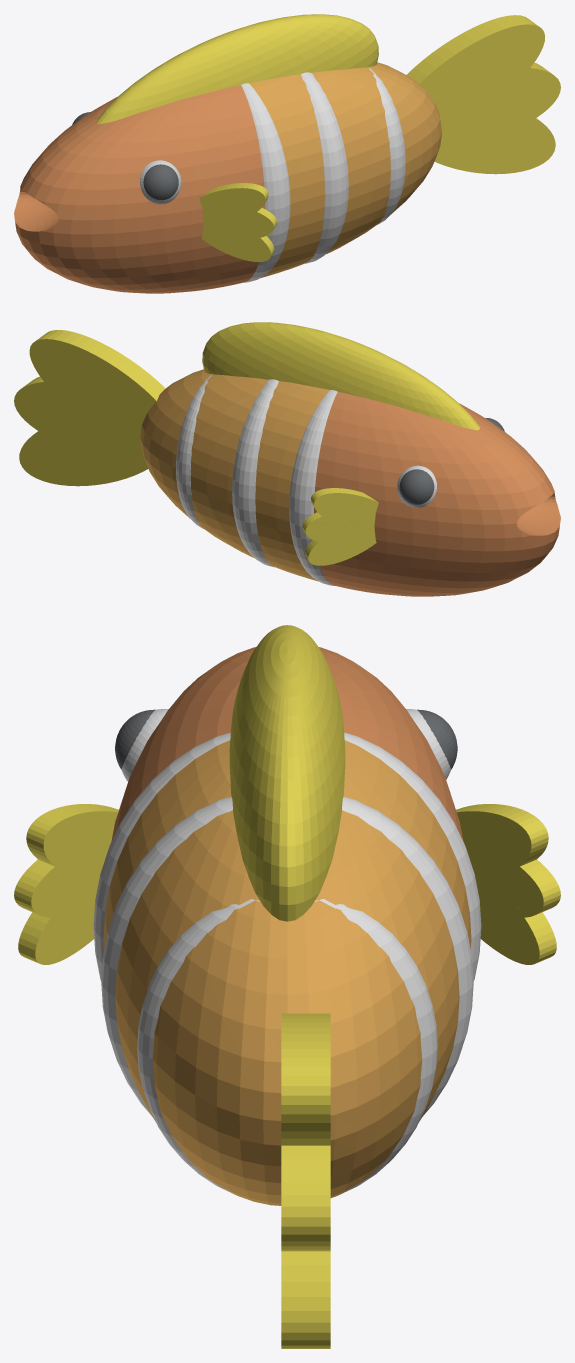
Rendered from fish.glb.
3 renders of one model, top to bottom at view 1: azimuth 30°, elevation 25°; view 2: azimuth 150°, elevation 25°; view 3: azimuth 270°, elevation 25°, orthographic. The views are drawn at different scales.
Visible parts, largest first — view 1: Mesh_Mesh_head_geo.001_lambert2SG.001; view 2: Mesh_Mesh_head_geo.001_lambert2SG.001; view 3: Mesh_Mesh_head_geo.001_lambert2SG.001.
Boxes of the visible parts, x1,y1,x2,y2 form: Mesh_Mesh_head_geo.001_lambert2SG.001: (14,14,560,293); Mesh_Mesh_head_geo.001_lambert2SG.001: (14,322,560,596); Mesh_Mesh_head_geo.001_lambert2SG.001: (14,625,560,1348).
Size of the model in its own units: 0.0652 by 0.0282 by 0.0296.
